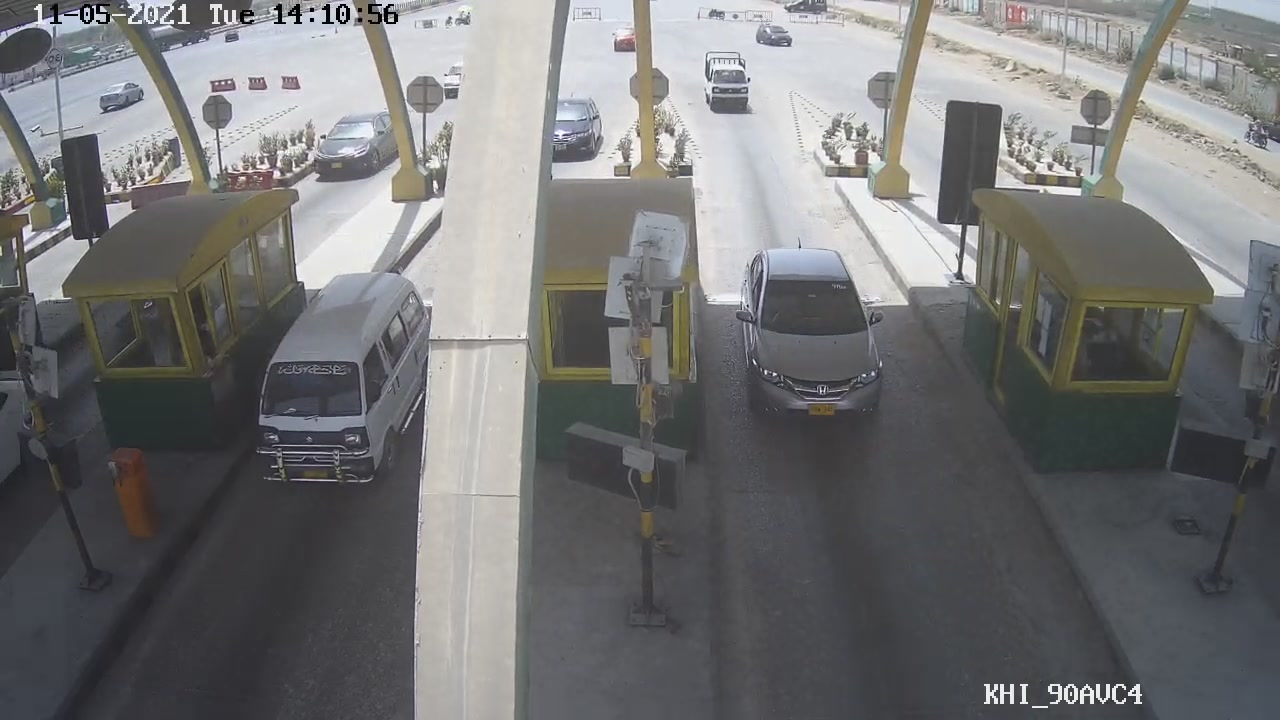F1: (731, 236, 892, 430)
